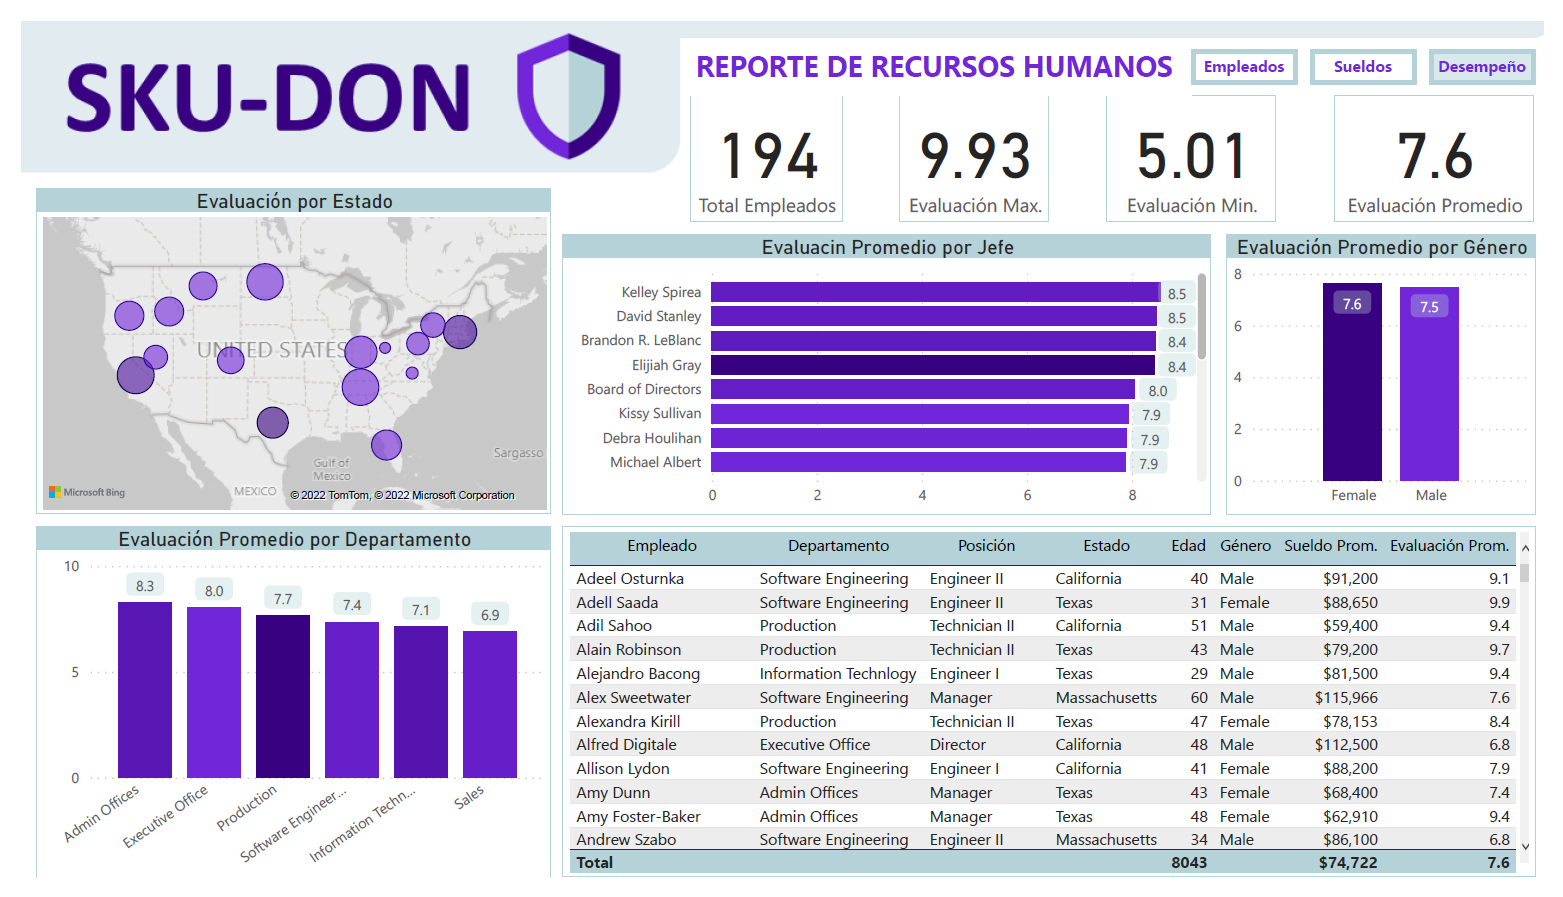

Layout of this report page (visuals, bound fields, positions):
{"tool":"powerbi","page":{"name":"Análisis Desempeño","canvas":[1280,720],"ordinal":2},"visuals":[{"type":"tableEx","fields":{"Values":["Tabla Empleados.Empleado","Tabla Empleados.Departamento","Tabla Empleados.Posición","Tabla Empleados.Estado","Sum(Tabla Empleados.Edad)","Tabla Empleados.Género","_Medidas.Promedio de Sueldo","_Medidas.Promedio desempeño"]},"box":[454.5,424.2,819.1,295.7],"z":0},{"type":"card","fields":{"Values":["_Medidas.Total Empleados"]},"box":[562,61.5,128.6,107.4],"z":1000},{"type":"columnChart","title":"Evaluación Promedio por Departamento","fields":{"Category":["Tabla Empleados.Departamento"],"Y":["_Medidas.Evaluación Promedio"]},"box":[11.9,424.2,433.4,296.6],"z":3000},{"type":"map","title":"Evaluación por Estado","fields":{"Category":["Tabla Empleados.Estado"],"Size":["_Medidas.Evaluación Promedio"]},"box":[11.9,139.6,433.4,275.5],"z":4000},{"type":"card","fields":{"Values":["Min(Tabla Evaluacion.Evaluación)"]},"box":[912.7,61.5,143.1,107.1],"z":5000},{"type":"card","fields":{"Values":["_Medidas.Evaluación Promedio"]},"box":[1103.7,61.5,169.5,107.1],"z":6000},{"type":"card","fields":{"Values":["Max(Tabla Evaluacion.Evaluación)"]},"box":[738.4,61.5,126.4,107.1],"z":7000},{"type":"clusteredBarChart","title":"Evaluacin Promedio por Jefe","fields":{"Category":["Tabla Empleados.Nombre Jefe"],"Y":["_Medidas.Evaluación Promedio"]},"box":[454.8,178.2,546.1,237.1],"z":8000},{"type":"columnChart","title":"Evaluación Promedio por Género","fields":{"Y":["_Medidas.Evaluación Promedio"],"Category":["Tabla Empleados.Género"]},"box":[1013.3,178.2,260.8,237.1],"z":10000},{"type":"textbox","box":[562,15.6,422.4,45.9],"z":11000},{"type":"actionButton","title":"Empleados","box":[1184.5,23.7,88.7,29],"z":12000},{"type":"actionButton","title":"Empleados","box":[1084.4,23.7,88.7,29],"z":13000},{"type":"actionButton","title":"Empleados","box":[984.3,23.7,88.7,29],"z":14000}]}

Visuals, with their boxes in screenshot pixels (x1, y1, x2, y2), scaled from the page's 1280x720 canvas onto the 1563x897 screenshot:
tableEx - Tabla Empleados.Empleado x Tabla Empleados.Departamento: 555:528:1555:896
card - _Medidas.Total Empleados: 686:77:843:210
"Evaluación Promedio por Departamento" columnChart: 15:528:544:896
"Evaluación por Estado" map: 15:174:544:517
card - Min(Tabla Evaluacion.Evaluación): 1114:77:1289:210
card - _Medidas.Evaluación Promedio: 1348:77:1555:210
card - Max(Tabla Evaluacion.Evaluación): 902:77:1056:210
"Evaluacin Promedio por Jefe" clusteredBarChart: 555:222:1222:517
"Evaluación Promedio por Género" columnChart: 1237:222:1556:517
textbox: 686:19:1202:77
"Empleados" actionButton: 1446:30:1555:66
"Empleados" actionButton: 1324:30:1432:66
"Empleados" actionButton: 1202:30:1310:66
